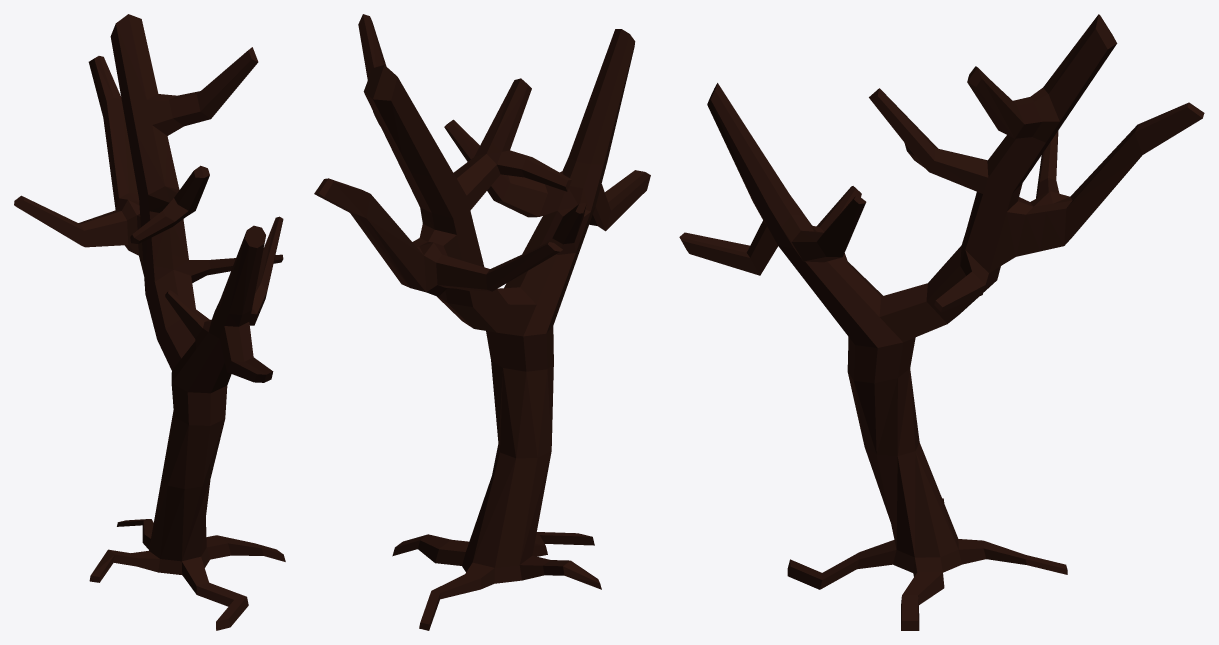
The model's file is dead4.obj.
The picture shows the model from 3 angles, left to right: view 1: azimuth 30°, elevation 25°; view 2: azimuth 150°, elevation 25°; view 3: azimuth 270°, elevation 25°; orthographic projection. The views are drawn at different scales.
Visible parts, largest first — view 1: dead4_Cylinder.005; view 2: dead4_Cylinder.005; view 3: dead4_Cylinder.005.
Boxes of the visible parts, x1=… form: dead4_Cylinder.005: x1=14, y1=14, x2=285, y2=630; dead4_Cylinder.005: x1=314, y1=14, x2=650, y2=630; dead4_Cylinder.005: x1=679, y1=14, x2=1204, y2=630.
Bounding box in the file's own units: 3.52 × 7.8 × 6.39.
